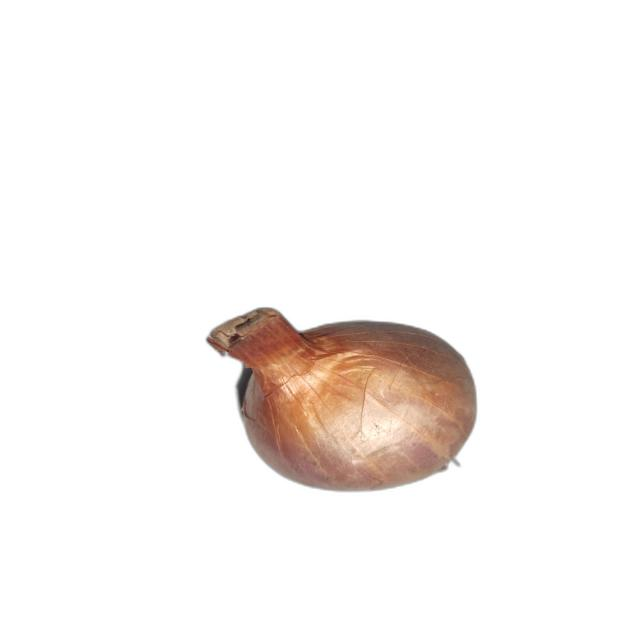onion: (205, 306, 479, 495)
